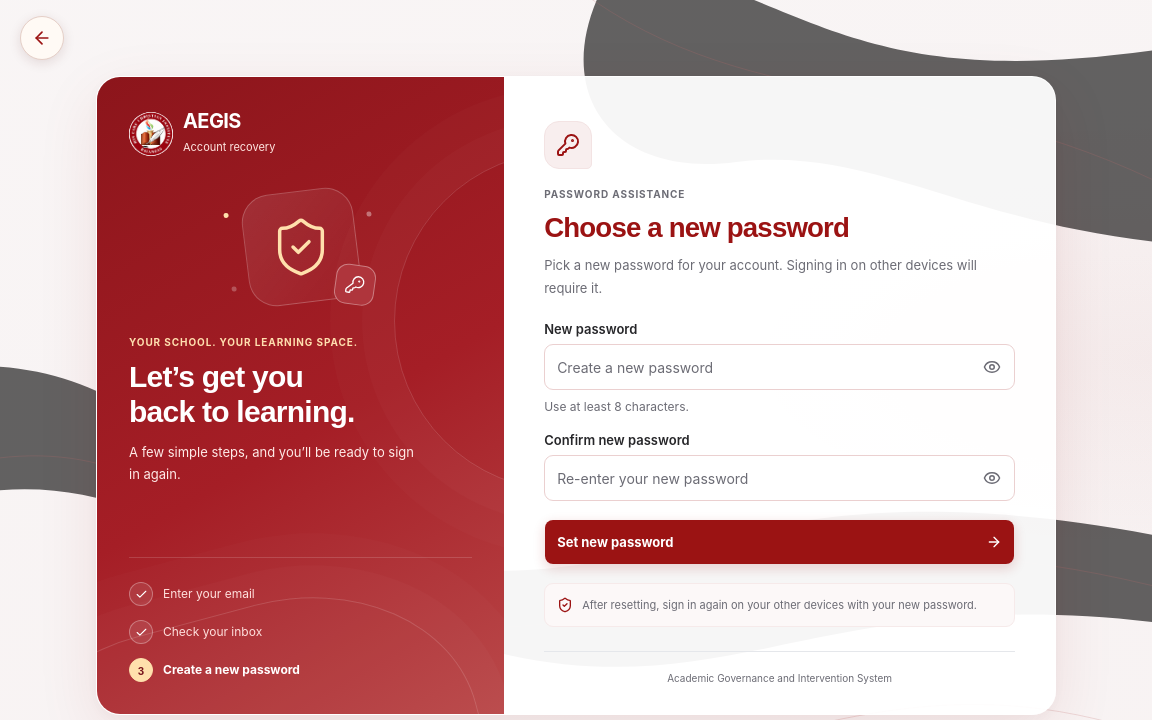
ResetPasswordPage › redeems the token from the link with the new password
Step 1. Type "brandnewpass1" into the password field labelled "New password" → (780, 367), box [544,344,1015,390]
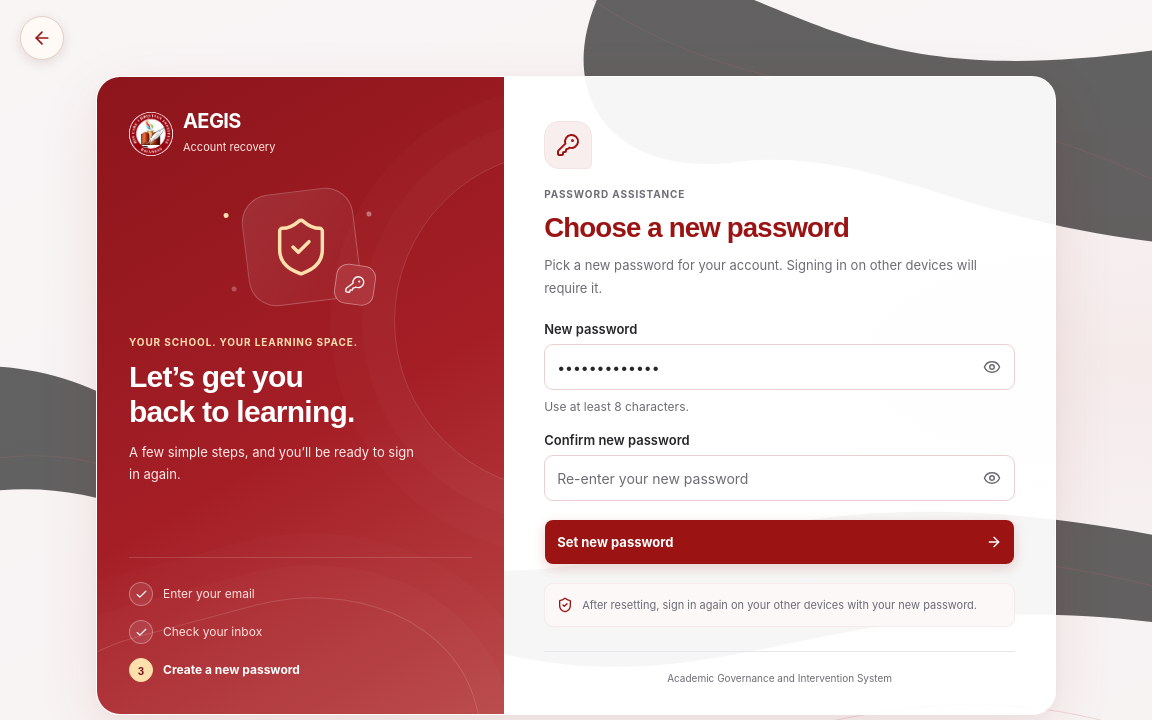
Step 2. Type "brandnewpass1" into the password field labelled "Confirm new password" → (780, 478), box [544,455,1015,501]
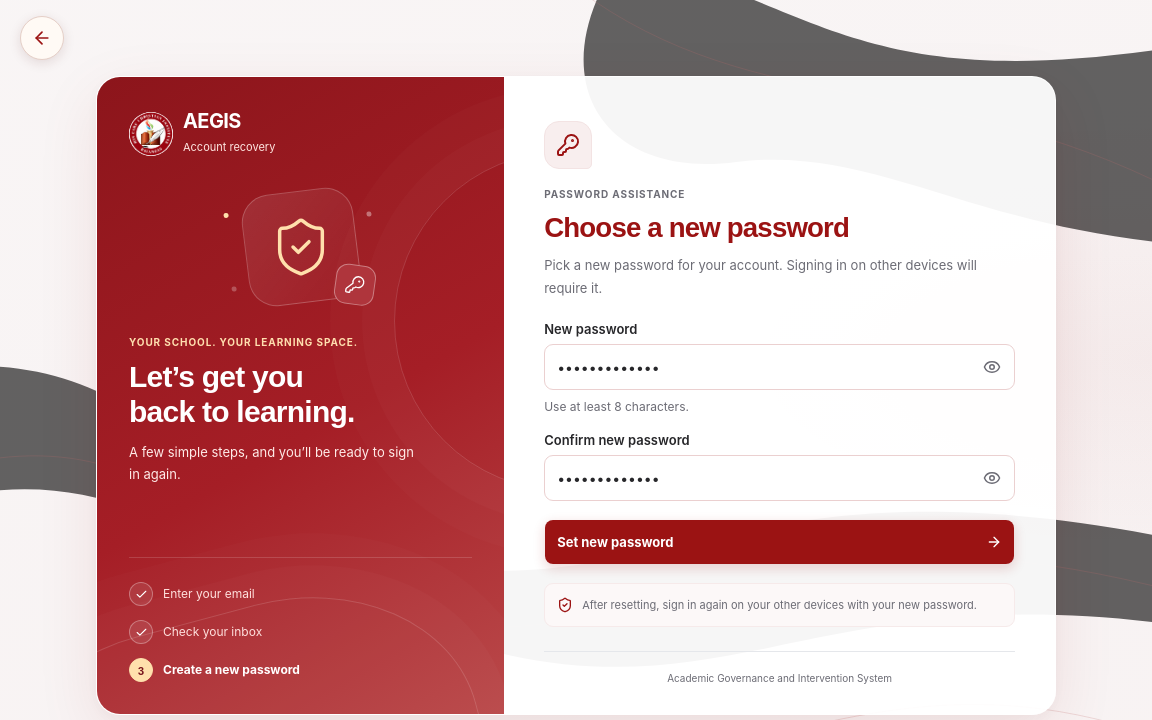
Step 3. Click the button "Set new password" → (615, 542), box [544,519,1015,565]
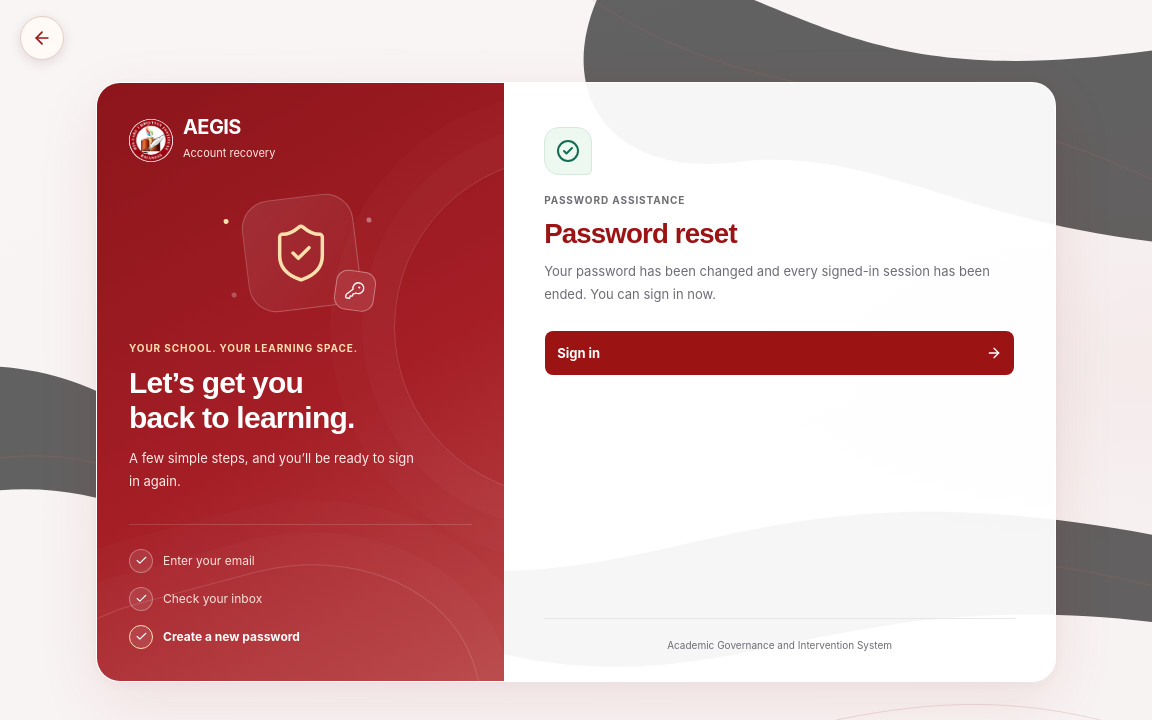
Expected: the heading "Password reset" is shown, [544,218,737,250]
